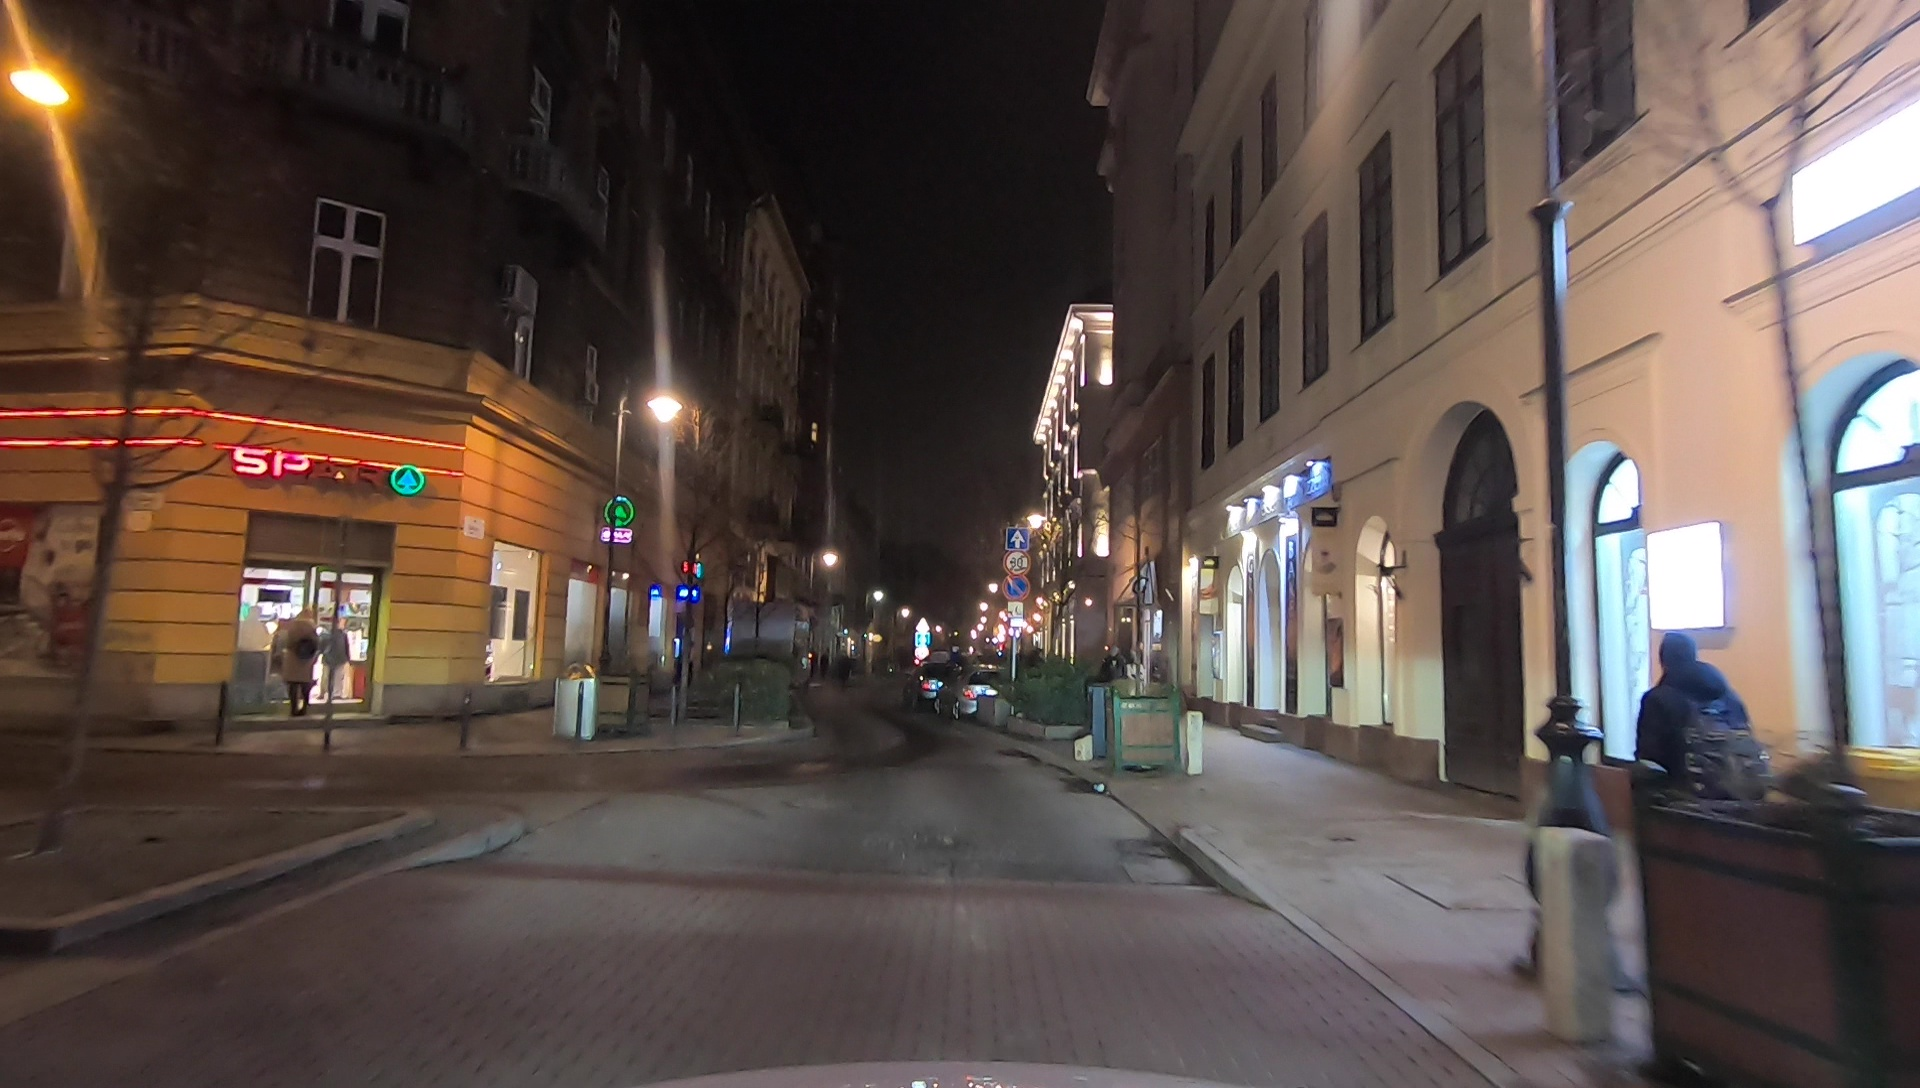person: (1641, 630, 1780, 1032), (278, 611, 315, 724)
